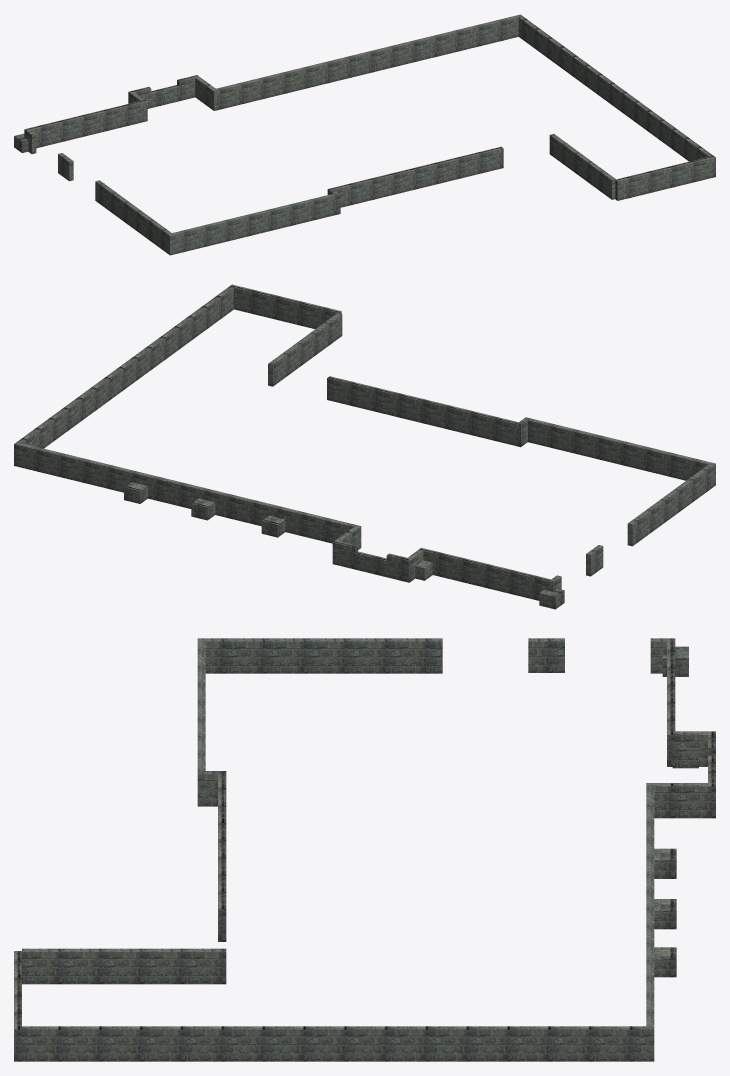
Rendered from wqj20.obj.
3 renders of one model, top to bottom at view 1: azimuth 30°, elevation 25°; view 2: azimuth 150°, elevation 25°; view 3: azimuth 270°, elevation 25°, orthographic. The views are drawn at different scales.
Visible parts, largest first — view 1: Line092, Line083, Line1789790220, Line052, Line1789790231, Line053, Line1789790224, Line047, Line050, Line049, Line1789790229; view 2: Line083, Line092, Line1789790220, Line1789790231, Line052, Line053, Line1789790224, Line049, Line047, Line050, Line1789790229; view 3: Line083, Line1789790220, Line052, Line1789790224, Line092, Line053, Line050, Rectangle193, Line1789790231, Line047, Rectangle187, Rectangle188 (+2 smaller).
Part boxes in pixels (bbox=[...]): Line092: bbox=[195, 36, 432, 110]; Line083: bbox=[430, 14, 625, 111]; Line1789790220: bbox=[615, 91, 715, 200]; Line052: bbox=[95, 180, 244, 255]; Line1789790231: bbox=[327, 153, 477, 207]; Line053: bbox=[242, 190, 340, 236]; Line1789790224: bbox=[549, 134, 615, 199]; Line047: bbox=[24, 113, 92, 154]; Line050: bbox=[90, 92, 147, 134]; Line049: bbox=[128, 75, 199, 108]; Line1789790229: bbox=[476, 146, 503, 174]; Line083: bbox=[14, 358, 135, 490]; Line092: bbox=[114, 466, 361, 549]; Line1789790220: bbox=[131, 284, 341, 380]; Line1789790231: bbox=[356, 383, 523, 447]; Line052: bbox=[627, 443, 715, 546]; Line053: bbox=[519, 417, 632, 466]; Line1789790224: bbox=[268, 313, 342, 386]; Line049: bbox=[332, 540, 412, 582]; Line047: bbox=[480, 563, 561, 600]; Line050: bbox=[407, 547, 482, 586]; Line1789790229: bbox=[327, 376, 358, 406]; Line083: bbox=[309, 957, 654, 1061]; Line1789790220: bbox=[14, 951, 309, 1061]; Line052: bbox=[197, 638, 442, 697]; Line1789790224: bbox=[22, 948, 226, 984]; Line092: bbox=[646, 783, 707, 957]; Line053: bbox=[197, 697, 217, 806]; Line050: bbox=[667, 690, 707, 766]; Rectangle193: bbox=[528, 638, 564, 672]; Line1789790231: bbox=[218, 771, 226, 889]; Line047: bbox=[650, 638, 675, 690]; Rectangle187: bbox=[654, 848, 676, 878]; Rectangle188: bbox=[654, 899, 676, 929].
Size of the model in its own units: 230 by 8.66 by 172.
